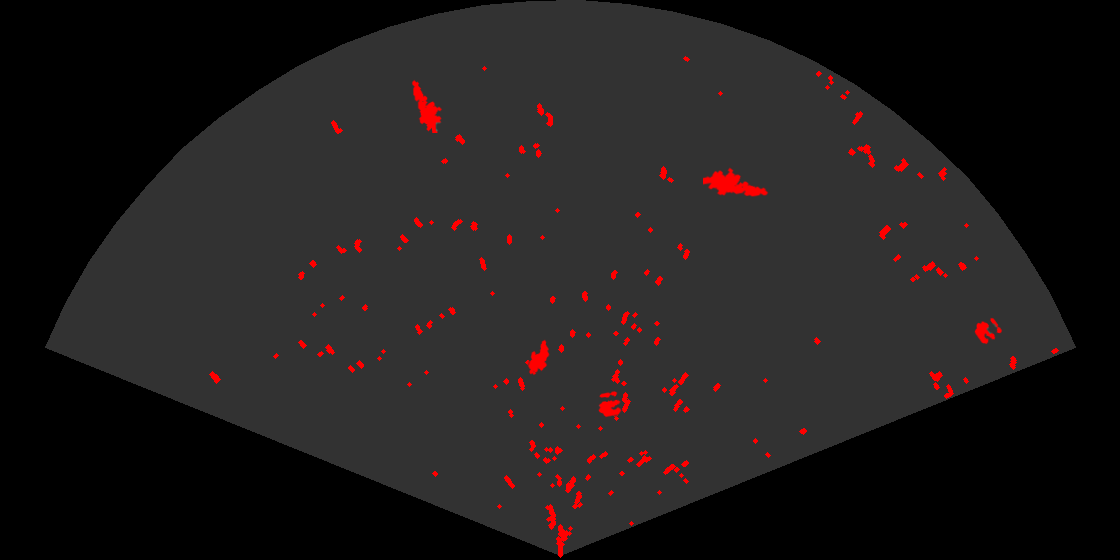AUV: (526, 338, 551, 377)
ball: (973, 316, 1004, 346), (597, 390, 623, 419)
frogman: (703, 166, 770, 198), (411, 79, 444, 133)
